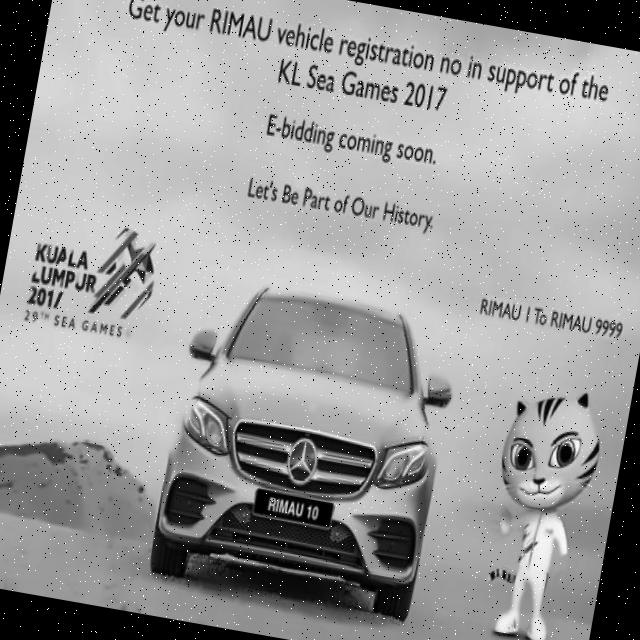License_Plate: (253, 489, 337, 530)
car: (143, 261, 464, 619)
